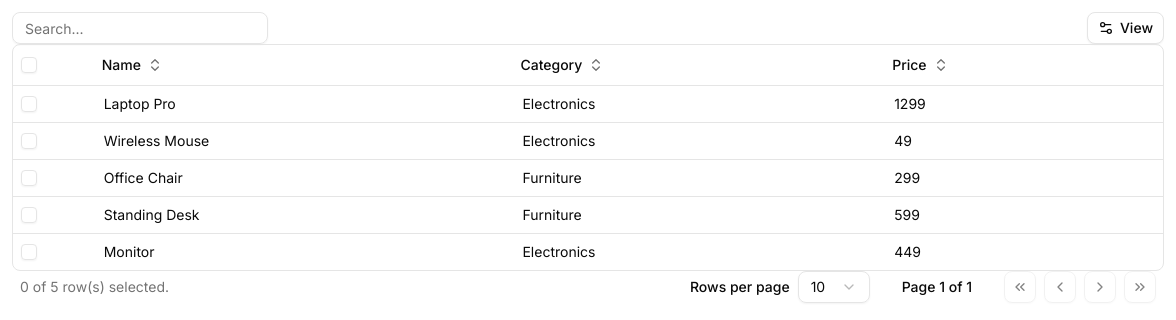
Scenario: DataTable row selection › selects every row on the page from the header
Step 1. Click the checkbox named "Select all" → [29, 65], box [21, 57, 37, 73]
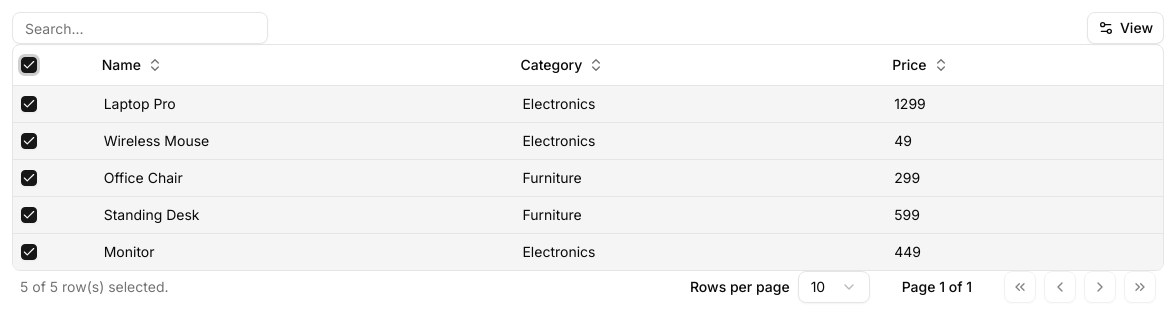
Check: the text "5 of 5 row(s) selected." is shown, box [20, 278, 168, 294]
